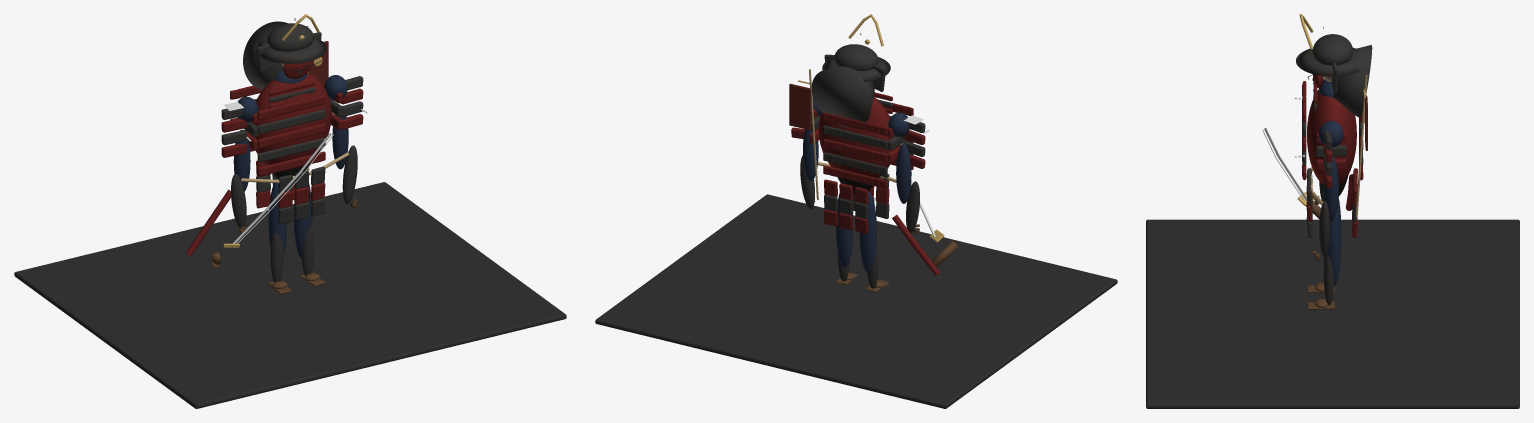
Rendered from samurai_character_v3.glb.
The picture shows the model from 3 angles, left to right: view 1: azimuth 30°, elevation 25°; view 2: azimuth 150°, elevation 25°; view 3: azimuth 270°, elevation 25°; orthographic projection. The views are drawn at different scales.
Visible parts, largest first — view 1: matte charcoal inspection plinth, rounded do cuirass silhouette, rear shikoro neck guard flare, segmented kabuto helmet bowl, wide kabuto brim, left kote forearm guard, right kote forearm guard, left hakama trouser leg, right armored upper arm, left shin greave, lacquered saya scabbard at left hip, right hakama trouser leg (+2 smaller); view 2: matte charcoal inspection plinth, rear shikoro neck guard flare, rounded do cuirass silhouette, cloth sashimono banner panel, segmented kabuto helmet bowl, left hakama trouser leg, left armored upper arm, right hakama trouser leg, right armored upper arm, left kote forearm guard, lacquered saya scabbard at left hip, wide kabuto brim; view 3: matte charcoal inspection plinth, rounded do cuirass silhouette, rear shikoro neck guard flare, segmented kabuto helmet bowl, wide kabuto brim, right hakama trouser leg, right armored upper arm, right kote forearm guard, right shoulder undercloth, right shin greave, bamboo sashimono back pole.
Boxes of the visible parts, bbox=[...] form: matte charcoal inspection plinth: bbox=[14, 182, 566, 408]; rounded do cuirass silhouette: bbox=[254, 73, 331, 165]; rear shikoro neck guard flare: bbox=[243, 21, 287, 90]; segmented kabuto helmet bowl: bbox=[267, 23, 313, 51]; wide kabuto brim: bbox=[254, 38, 326, 63]; left kote forearm guard: bbox=[231, 174, 246, 228]; right kote forearm guard: bbox=[342, 145, 357, 203]; left hakama trouser leg: bbox=[268, 179, 287, 255]; right armored upper arm: bbox=[332, 105, 348, 169]; left shin greave: bbox=[270, 233, 283, 282]; lacquered saya scabbard at left hip: bbox=[186, 189, 231, 256]; right hakama trouser leg: bbox=[293, 182, 312, 258]; matte charcoal inspection plinth: bbox=[595, 194, 1117, 408]; rear shikoro neck guard flare: bbox=[811, 66, 874, 127]; rounded do cuirass silhouette: bbox=[818, 97, 894, 178]; cloth sashimono banner panel: bbox=[789, 83, 811, 129]; segmented kabuto helmet bowl: bbox=[834, 44, 878, 70]; left hakama trouser leg: bbox=[859, 191, 876, 273]; left armored upper arm: bbox=[896, 143, 911, 203]; right hakama trouser leg: bbox=[836, 193, 853, 267]; right armored upper arm: bbox=[803, 129, 818, 180]; left kote forearm guard: bbox=[906, 181, 919, 233]; lacquered saya scabbard at left hip: bbox=[892, 215, 940, 275]; wide kabuto brim: bbox=[822, 57, 890, 82]; matte charcoal inspection plinth: bbox=[1146, 219, 1519, 408]; rounded do cuirass silhouette: bbox=[1307, 88, 1356, 184]; rear shikoro neck guard flare: bbox=[1333, 45, 1372, 117]; segmented kabuto helmet bowl: bbox=[1312, 34, 1353, 65]; wide kabuto brim: bbox=[1296, 48, 1359, 76]; right hakama trouser leg: bbox=[1327, 206, 1341, 286]; right armored upper arm: bbox=[1323, 156, 1338, 220]; right kote forearm guard: bbox=[1319, 201, 1329, 256]; right shoulder undercloth: bbox=[1318, 121, 1343, 147]; right shin greave: bbox=[1323, 253, 1333, 304]; bamboo sashimono back pole: bbox=[1355, 74, 1367, 217].
Size of the model in its own units: 4 by 3.04 by 3.4.
